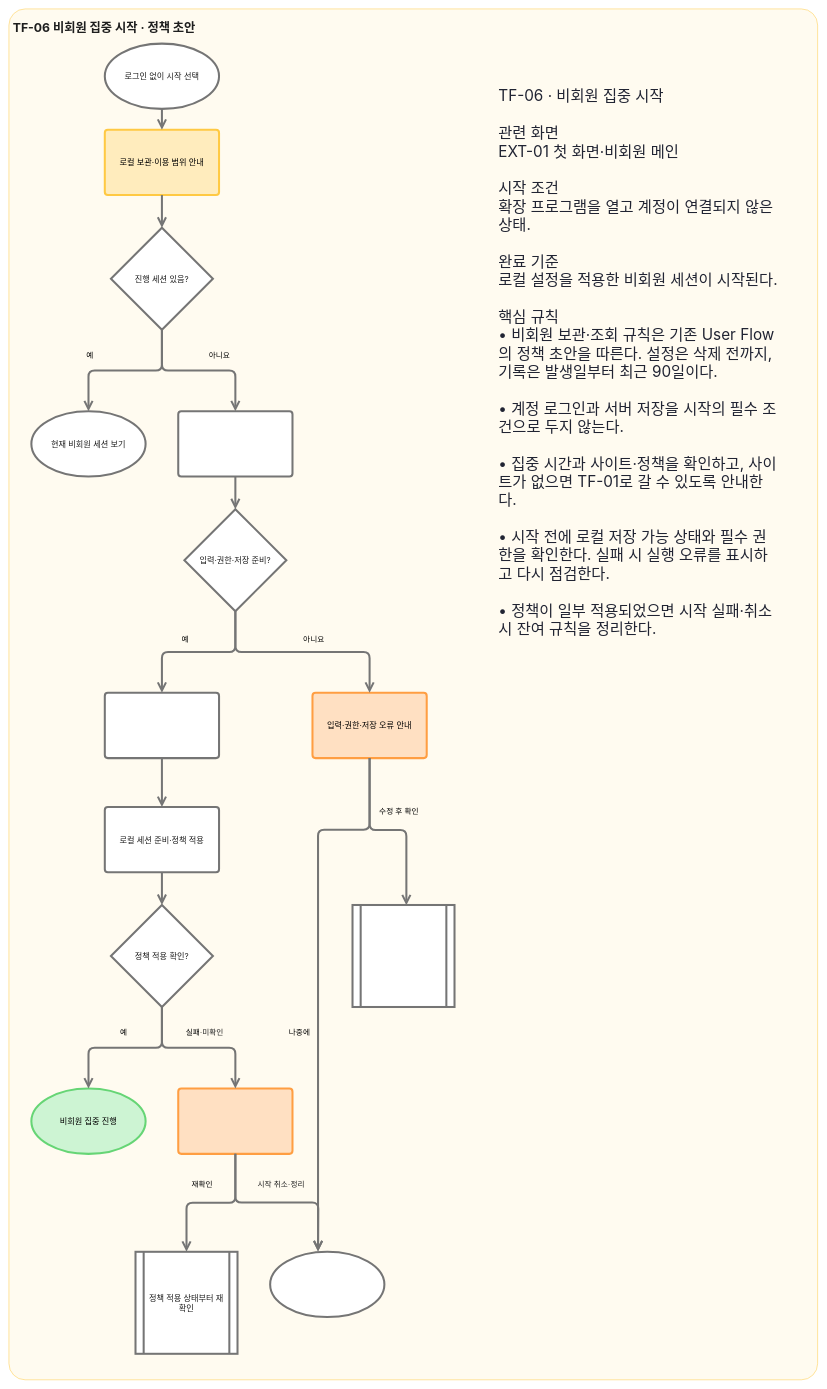
Image size: 827x1389. Some labels were removed from this diagram. The box of each missing label's shape, as (x1, y1, x2, y2) in pixels:
로컬 설정·집중 시간 확인: (177, 410, 293, 477)
로컬 설정·집중 시간 확인으로 복귀: (351, 904, 455, 1008)
비회원 메인 복귀: (269, 1251, 385, 1318)
적용 상태 점검·오류 안내: (177, 1087, 293, 1155)
집중 시작 선택: (104, 692, 220, 759)
